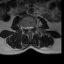CCS_normal: (28, 25, 30, 33)
LFS_normal: (32, 24, 34, 30)
LLS_normal: (30, 25, 32, 31)
RFS_normal: (24, 25, 26, 31)
RLS_normal: (26, 25, 28, 31)
